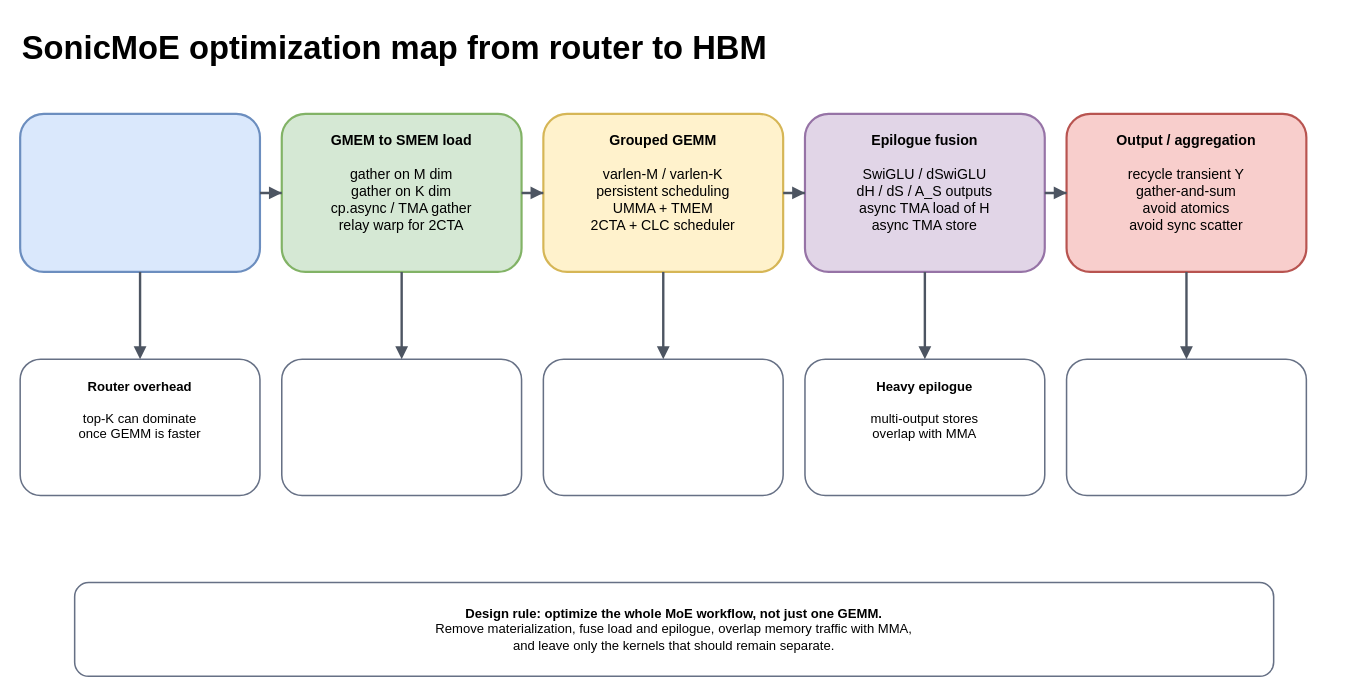
Image size: 1346x695. Some labels were removed from this diagram. The centre of each missing label's shape, as x and y in pixels:
Aggregation choice deterministic reduce avoid blocking next tile: the point at 1186,427
HBM traffic avoid O(TKd) padding keep X compact in L2: the point at 401,427
Router / routing fused top-K sort top-K softmax token rounding custom router API: the point at 140,192
Small GEMM tiles fine experts shrink tiles scheduler hides imbalance: the point at 662,427
